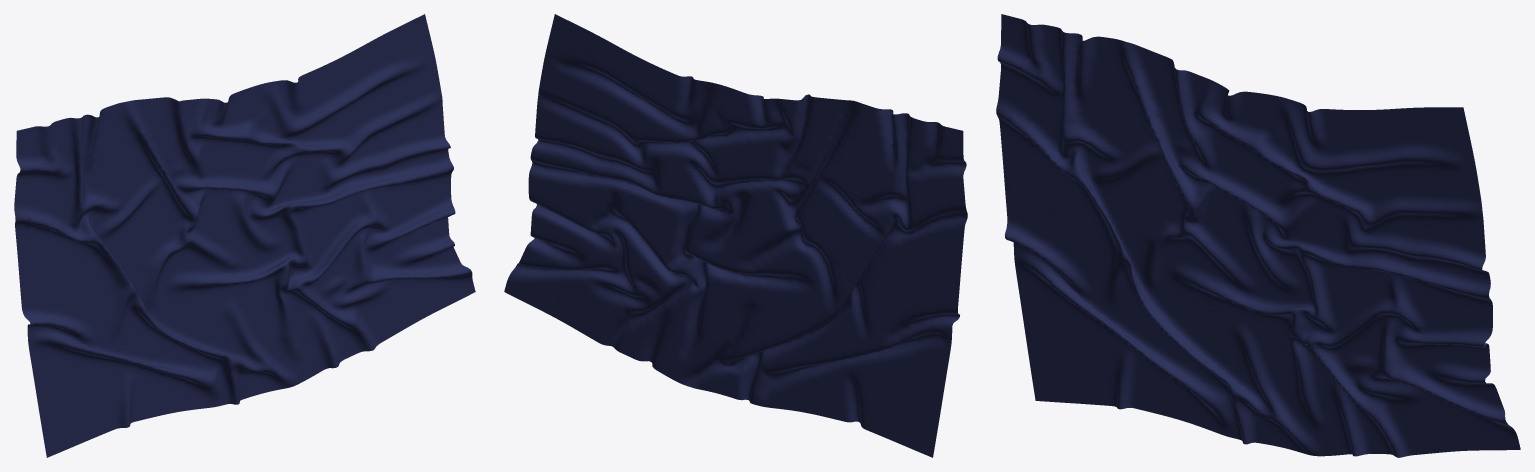
Rendered from Ocean01_low.FBX.
3 renders of one model, left to right at view 1: azimuth 30°, elevation 25°; view 2: azimuth 150°, elevation 25°; view 3: azimuth 330°, elevation 25°, orthographic. The views are drawn at different scales.
Visible parts, largest first — view 1: Ocean01_low; view 2: Ocean01_low; view 3: Ocean01_low.
Part boxes in pixels (box(x1,y1,x2,y2)): Ocean01_low: box(14, 14, 475, 457); Ocean01_low: box(504, 14, 967, 457); Ocean01_low: box(996, 14, 1520, 457).
Size of the model in its own units: 1.49 by 1.09 by 0.0365.
